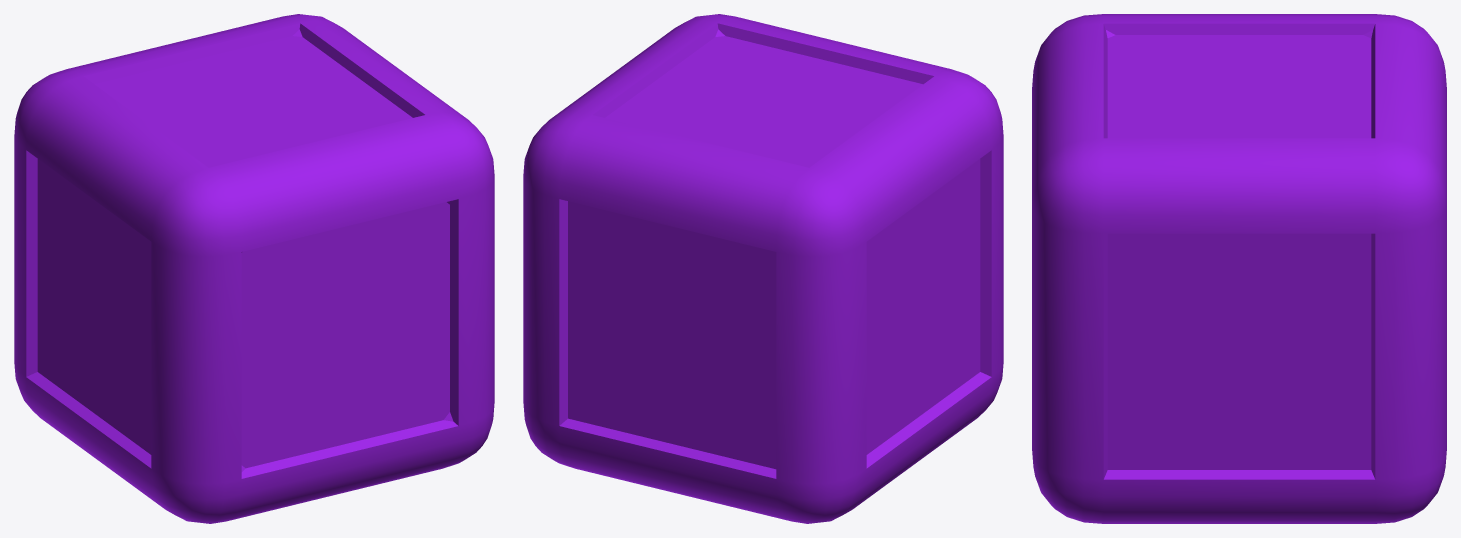
File: Transpot_way_-_Box.fbx
The picture shows the model from 3 angles, left to right: view 1: azimuth 30°, elevation 25°; view 2: azimuth 150°, elevation 25°; view 3: azimuth 270°, elevation 25°; orthographic projection. The views are drawn at different scales.
Visible parts, largest first — view 1: Box; view 2: Box; view 3: Box.
Boxes of the visible parts, x1,y1,x2,y2 form: Box: (14,14,494,523); Box: (523,14,1003,523); Box: (1032,14,1446,523).
Bounding box in the file's own units: 0.5483 × 0.5483 × 0.5483.
